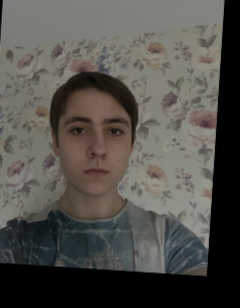without_mask: (55, 113, 131, 198)
